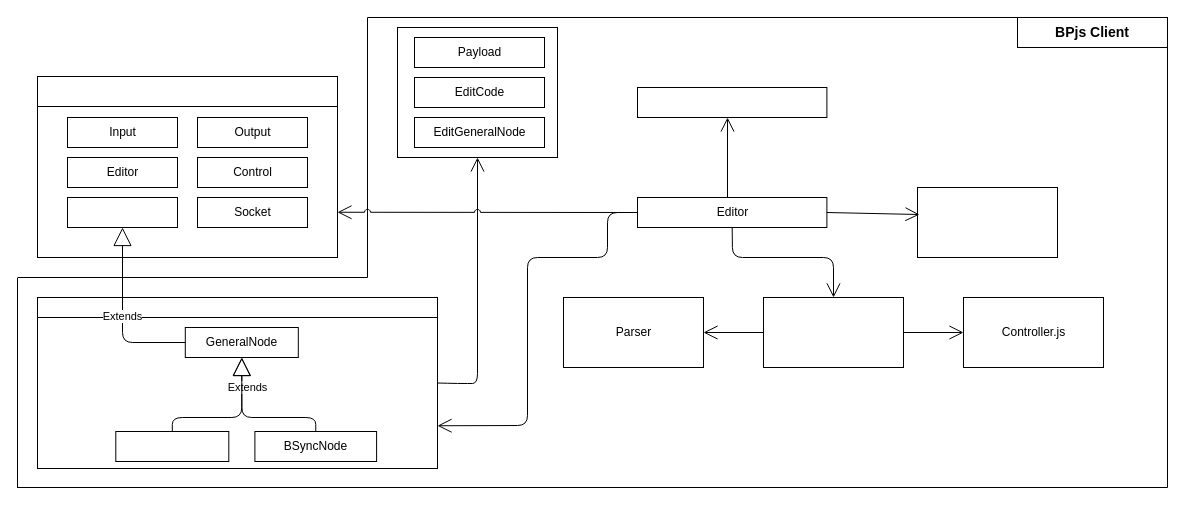
The diagram is 1186 pixels wide and 507 high, and some of its shapes have lost their labels. Each missing label, with the box of its shape:
ButtonHandlers: (762, 296, 904, 368)
Component: (66, 196, 178, 228)
Console: (636, 86, 827, 118)
EventHandlers: (916, 186, 1058, 258)
Nodes*: (36, 296, 438, 318)
StartNode: (115, 430, 229, 462)
«External» Rete: (36, 76, 338, 106)
